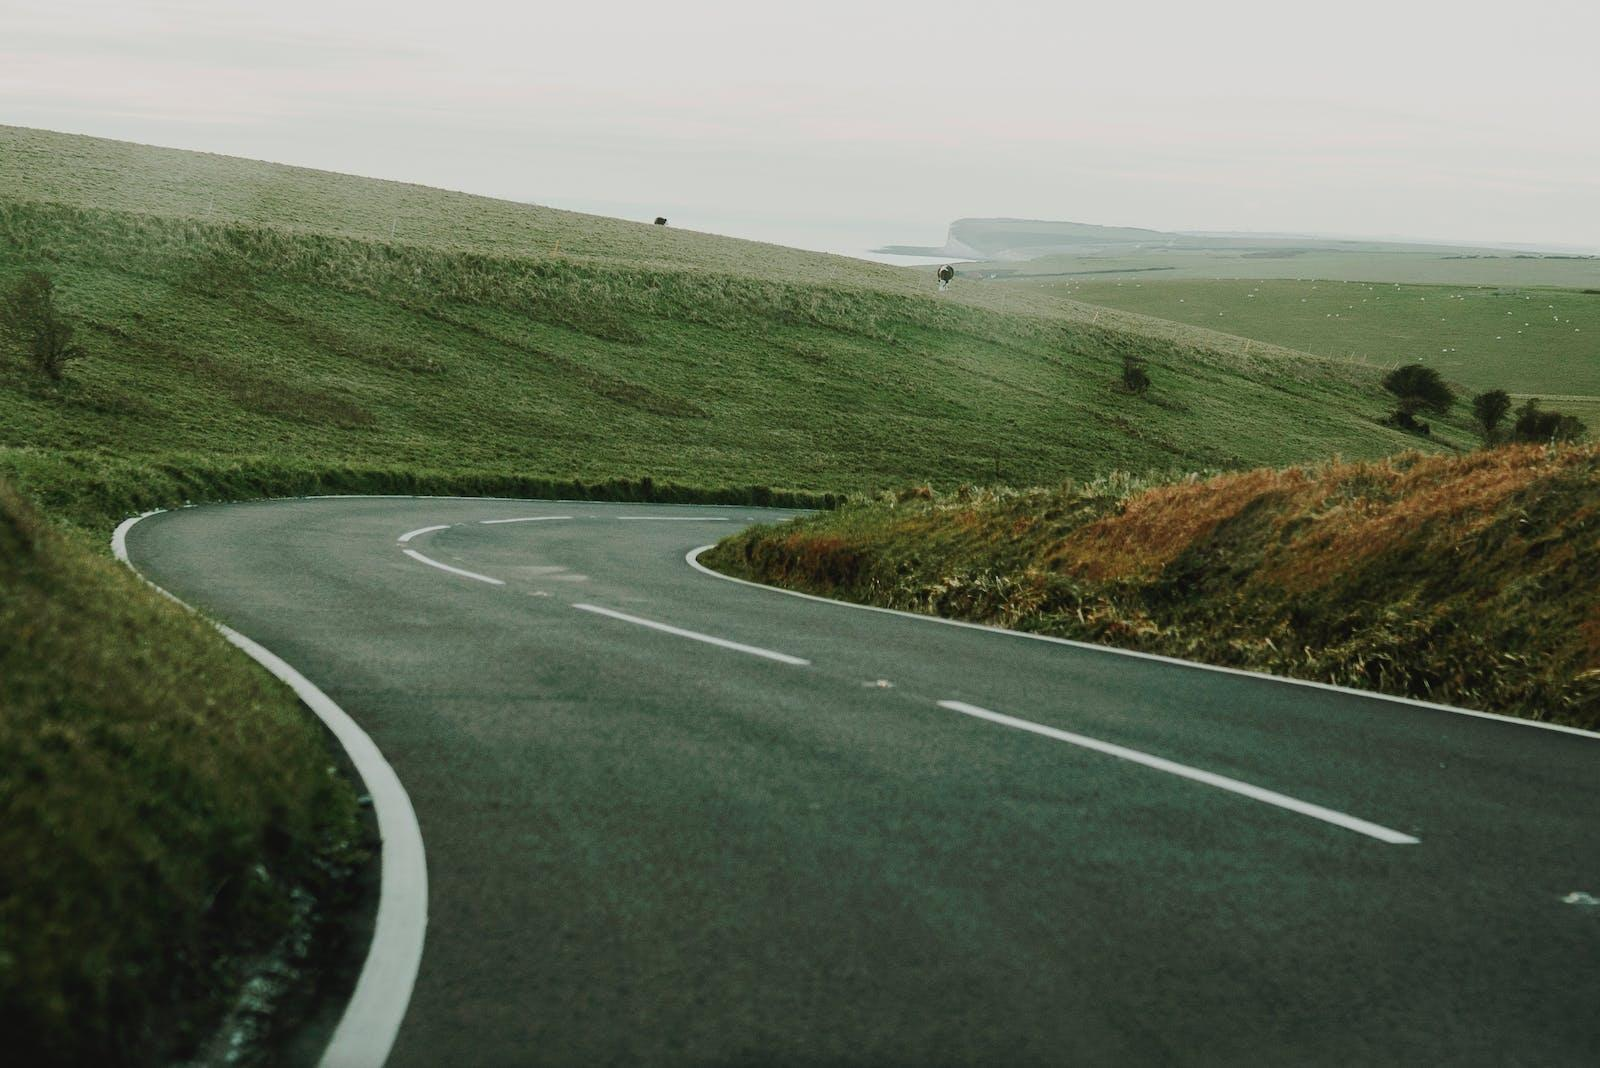road: (129, 497, 1599, 1064)
